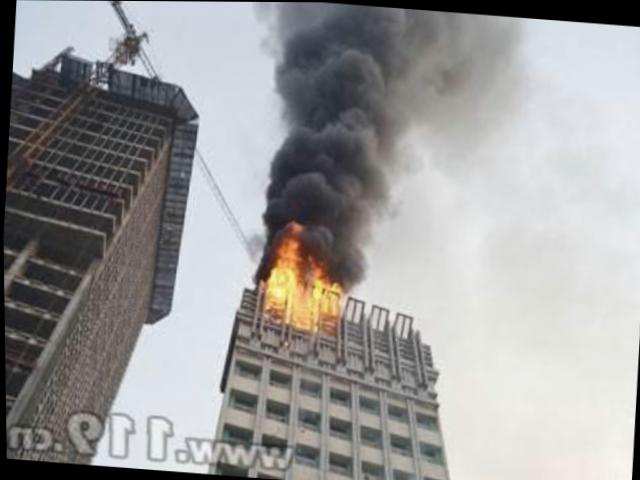fire: (266, 219, 303, 305), (297, 272, 341, 308), (290, 306, 313, 327)
